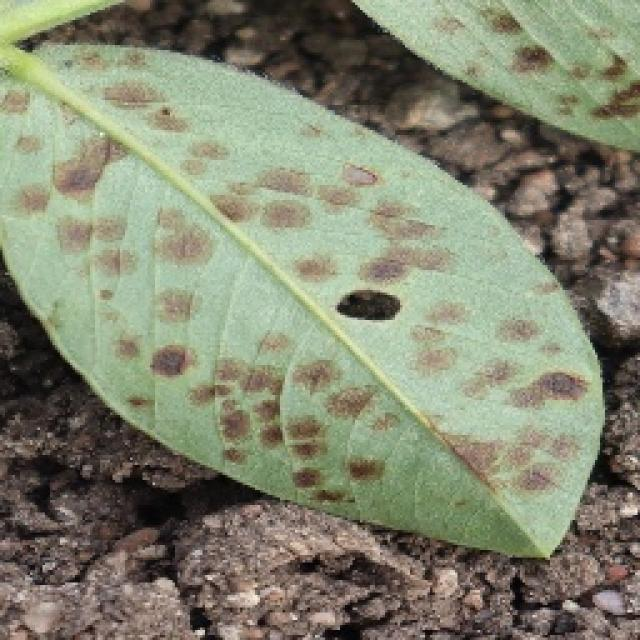Whitefly: (0, 28, 629, 596)
